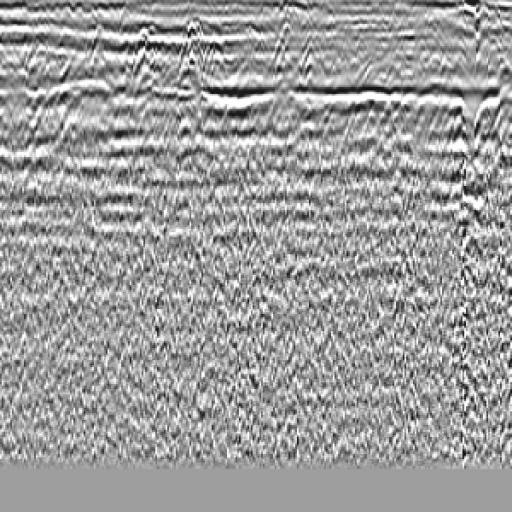metalic: (428, 35, 512, 255)
